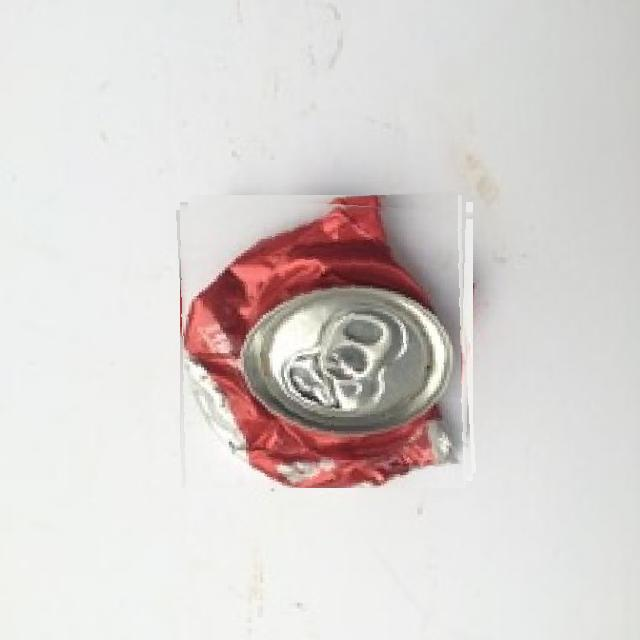recyclable: (180, 195, 473, 488)
